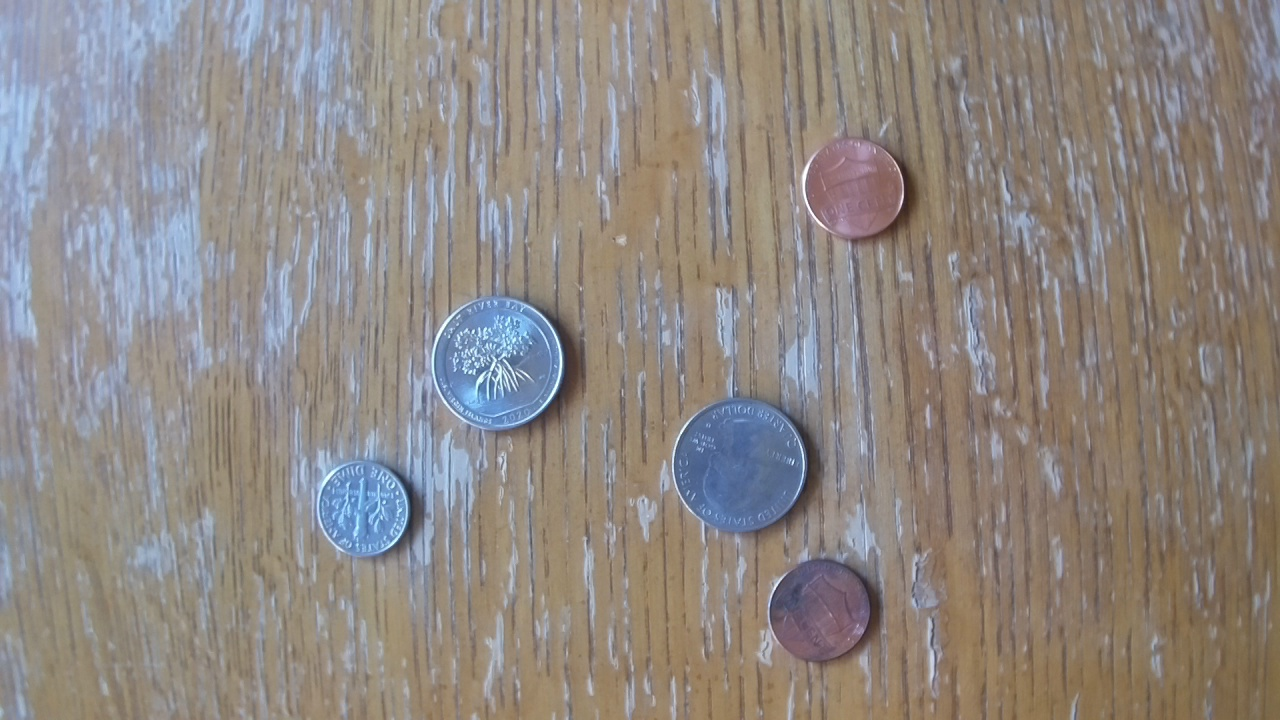dime: (317, 458, 413, 560)
penny: (768, 559, 872, 666), (804, 135, 905, 240)
quarter: (671, 395, 811, 536), (431, 296, 565, 433)
